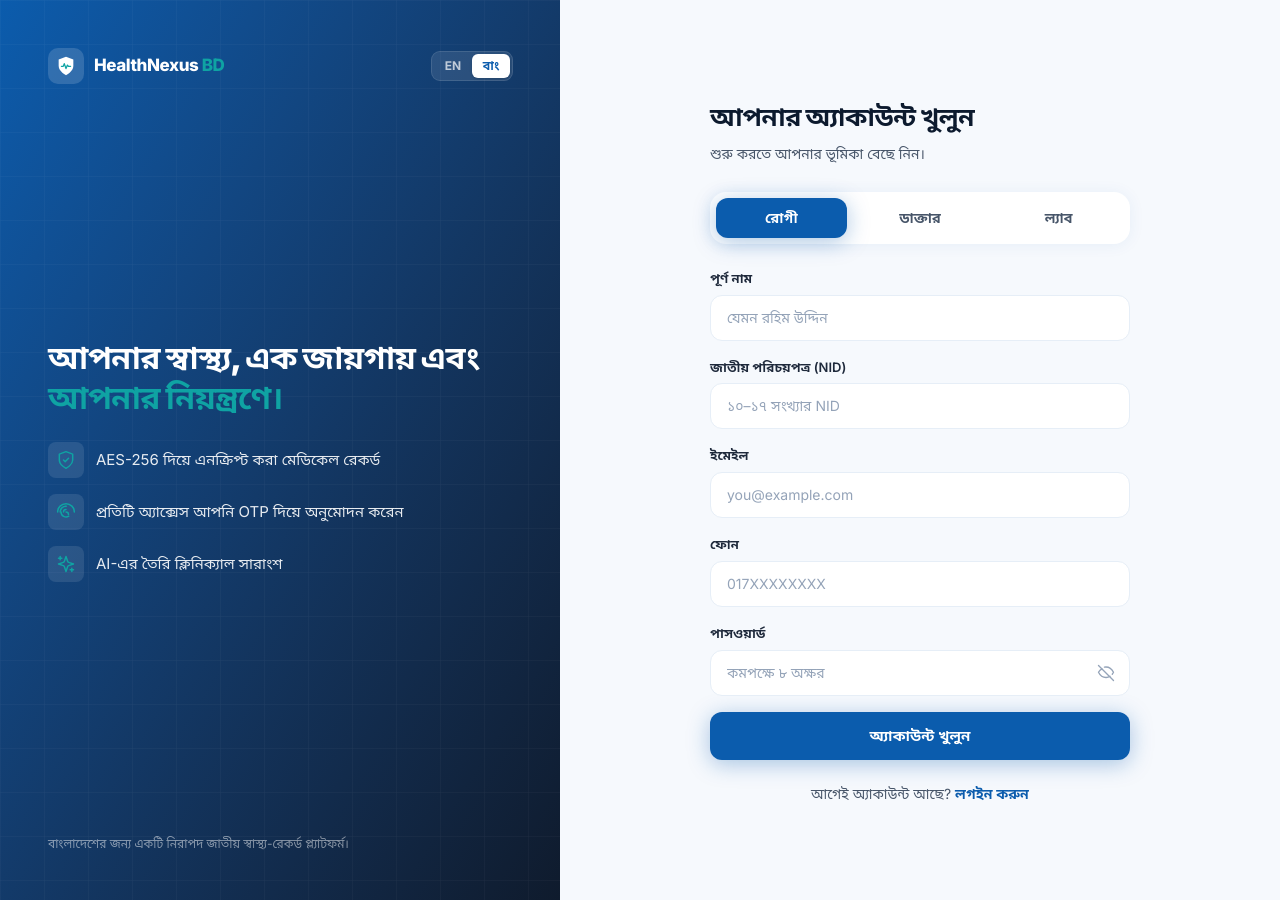
Test: auth & landing pages in bn › register validation errors are translated
Click the button "অ্যাকাউন্ট খুলুন" at [920, 736], box 710,712 -> 1130,760
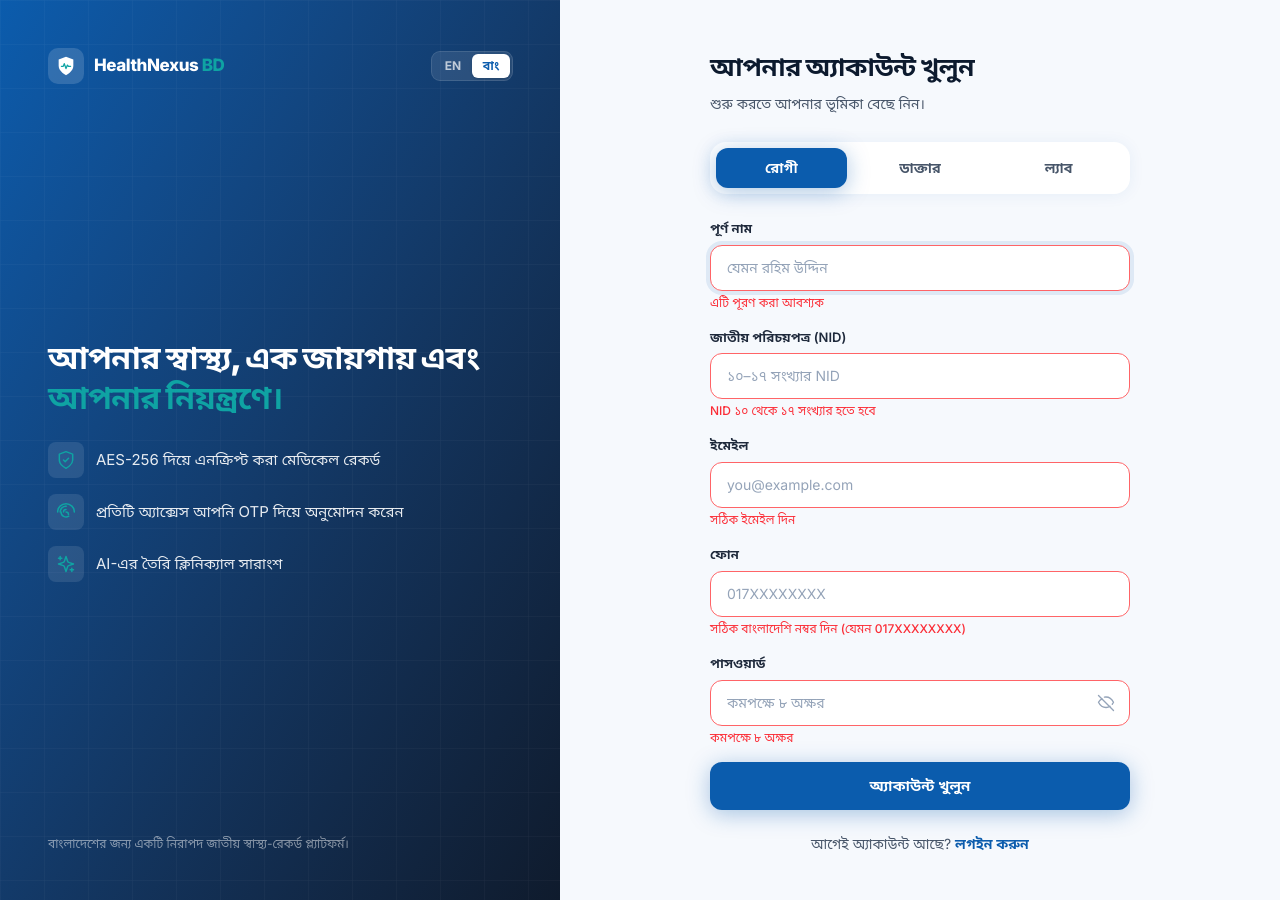
Now the text "সঠিক ইমেইল দিন" is shown, box 710,512 -> 795,527
Now the text "NID ১০ থেকে ১৭ সংখ্যার হতে হবে" is shown, box 710,403 -> 876,418
